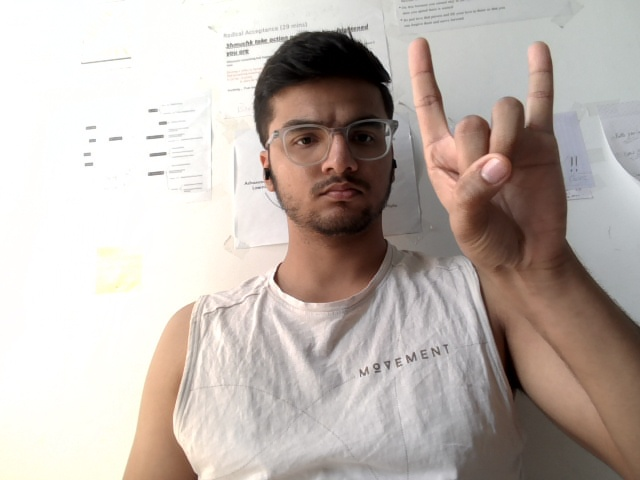iloveyou: (391, 10, 613, 282)
